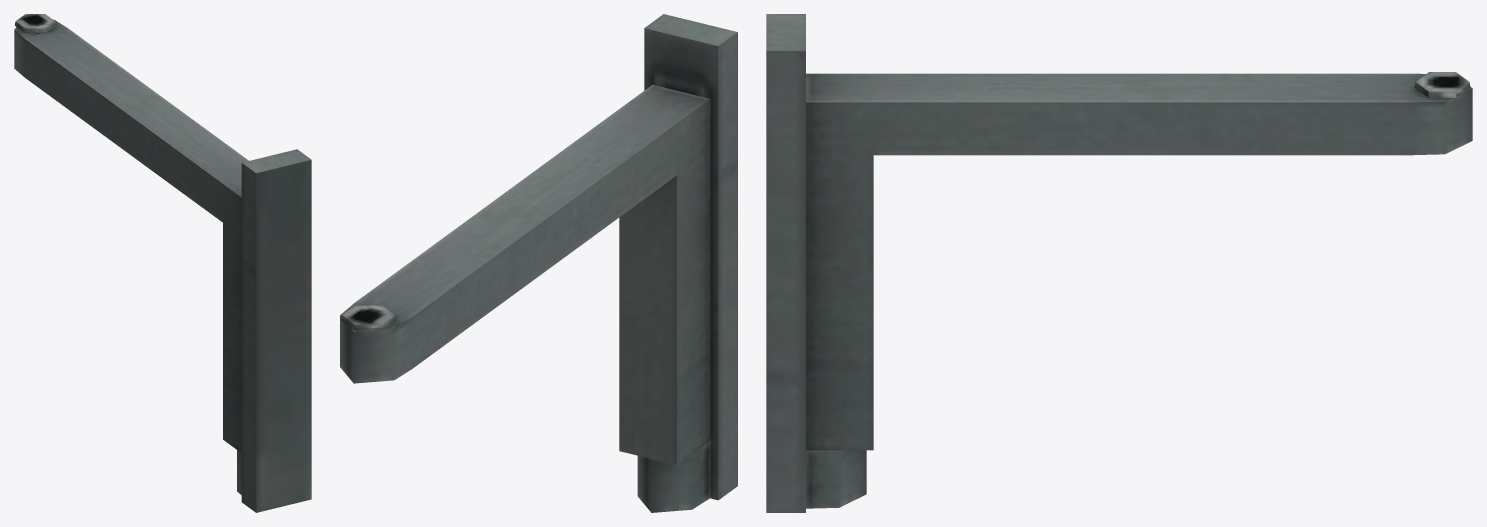
File: paris_bookstore_wall_light_base_lod1.glb
The picture shows the model from 3 angles, left to right: view 1: azimuth 30°, elevation 25°; view 2: azimuth 150°, elevation 25°; view 3: azimuth 270°, elevation 25°; orthographic projection. The views are drawn at different scales.
Parts seen in each view (by area): view 1: surf0; view 2: surf0; view 3: surf0.
Boxes of the visible parts, x1=… form: surf0: x1=14, y1=14, x2=311, y2=512; surf0: x1=340, y1=14, x2=737, y2=512; surf0: x1=766, y1=14, x2=1472, y2=512.
Bounding box in the file's own units: 1.68 × 9.8 × 13.57.
